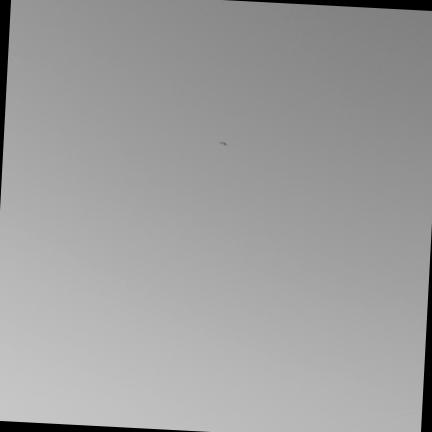Shahed: (220, 142, 227, 145)
